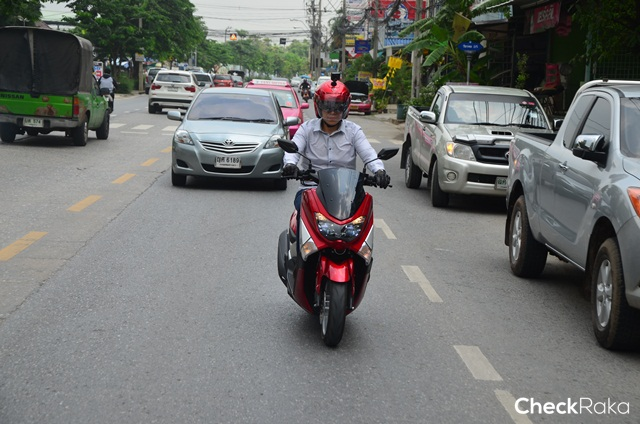helmet: (312, 79, 354, 121)
motorcycle: (271, 135, 400, 353)
